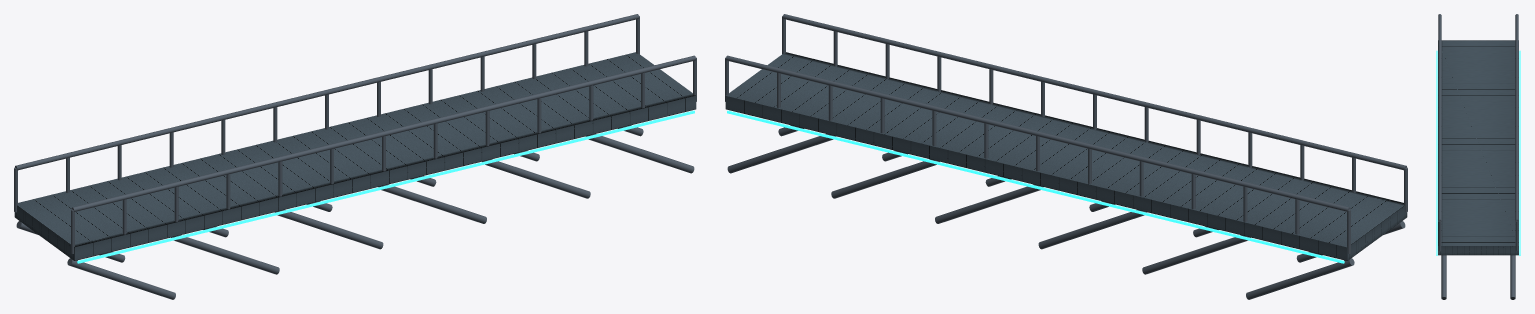
Rendered from service-bridge.glb.
3 views of the same model, side by side, from view 1: azimuth 30°, elevation 25°; view 2: azimuth 150°, elevation 25°; view 3: azimuth 270°, elevation 25° (orthographic). The views are drawn at different scales.
Parts seen in each view (by area): view 1: service-bridge; view 2: service-bridge; view 3: service-bridge.
Part boxes in pixels (x1,y1,x2,y2): service-bridge: (14, 14, 696, 299); service-bridge: (725, 14, 1407, 299); service-bridge: (1436, 14, 1520, 299).
Bounding box in the file's own units: 24.13 × 4.4 × 4.17.
Materials: 3 (1 with a texture image).
